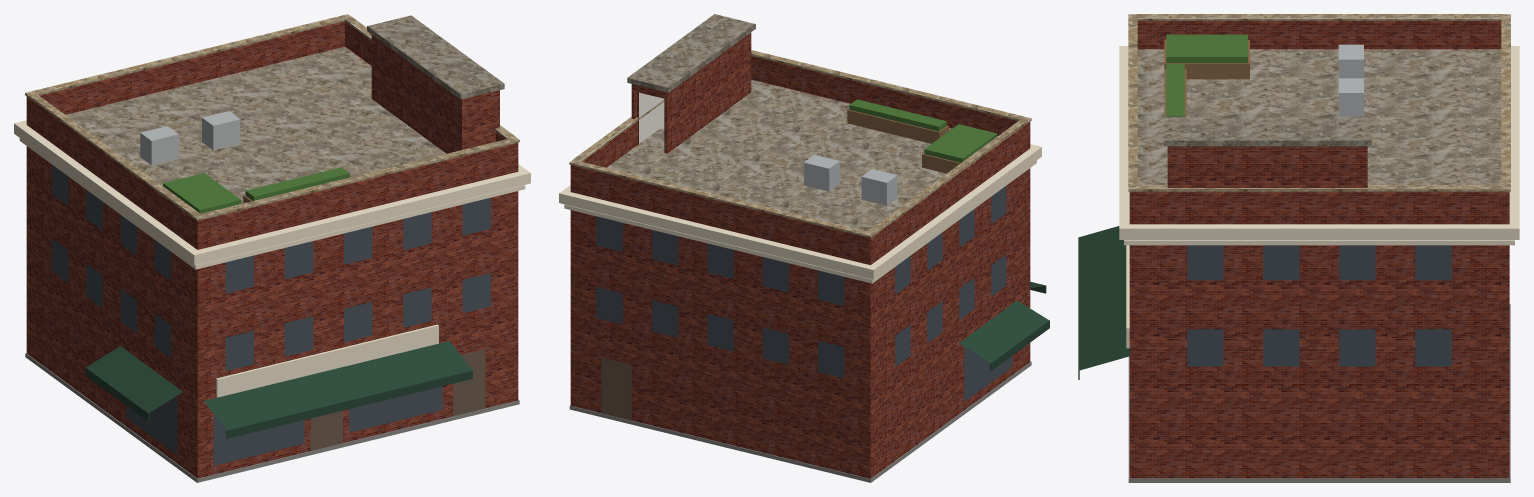
File: ns-corner-store.zfix-v22.lod1.glb
The picture shows the model from 3 angles, left to right: view 1: azimuth 30°, elevation 25°; view 2: azimuth 150°, elevation 25°; view 3: azimuth 270°, elevation 25°; orthographic projection. The views are drawn at different scales.
Parts seen in each view (by area): view 1: ns-corner-store; view 2: ns-corner-store; view 3: ns-corner-store.
Part boxes in pixels (<box>): ns-corner-store: <box>14,14,530,482</box>; ns-corner-store: <box>559,14,1049,482</box>; ns-corner-store: <box>1078,14,1519,482</box>.
Size of the model in its own units: 14.74 by 11.95 by 13.94.
Materials: 3 (2 with a texture image).
